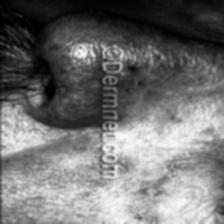Non-Cancerous Skin Condition: (126, 36, 216, 112)
